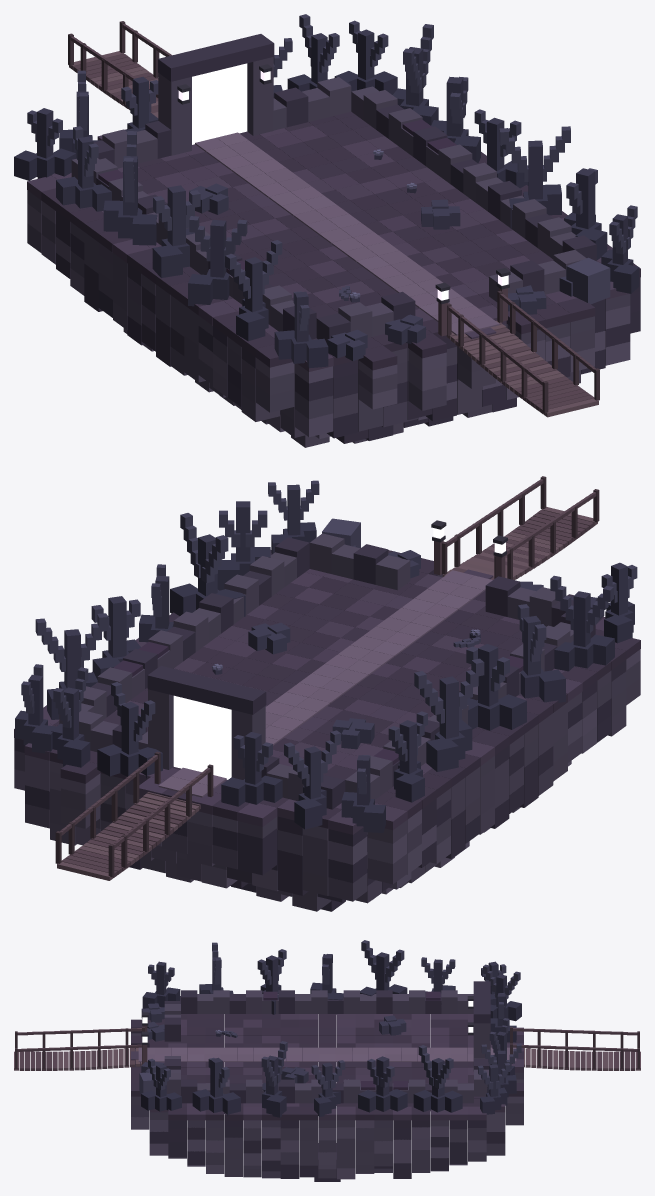
File: room_empty_polluted.glb
3 renders of one model, top to bottom at view 1: azimuth 30°, elevation 25°; view 2: azimuth 150°, elevation 25°; view 3: azimuth 270°, elevation 25°, orthographic. The views are drawn at different scales.
Visible parts, largest first — view 1: room_empty_blocks, tree4_(0, 0).001, tree0_(0, 0).002, tree5_(0, 0).001, tree2_(0, 0).001, tree2_(0, 0).002, tree0_(0, 0).003, tree4_(0, 0).002, tree0_(0, 0).001, tree5_(0, 0).002, tree3_(0, 0).001, tree1_(0, 0).003 (+12 smaller); view 2: room_empty_blocks, tree2_(0, 0).002, tree2_(0, 0).001, tree0_(0, 0).002, tree5_(0, 0).001, tree5_(0, 0).003, tree0_(0, 0).004, tree2_(0, 0).003, tree5_(0, 0).002, tree4_(0, 0).001, tree3_(0, 0).001, tree2_(0, 0).004 (+10 smaller); view 3: room_empty_blocks, tree5_(0, 0).002, tree3_(0, 0).002, tree3_(0, 0).001, tree5_(0, 0).001, tree2_(0, 0).002, tree1_(0, 0).001, tree1_(0, 0).002, tree1_(0, 0).003, tree0_(0, 0).001, tree2_(0, 0).003, tree4_(0, 0).001 (+9 smaller).
Boxes of the visible parts, left/top/right/bottom form: room_empty_blocks: left=27, top=21, right=640, bottom=447; tree4_(0, 0).001: left=188, top=216, right=247, bottom=306; tree0_(0, 0).002: left=152, top=185, right=200, bottom=277; tree5_(0, 0).001: left=499, top=126, right=570, bottom=228; tree2_(0, 0).001: left=225, top=240, right=282, bottom=341; tree2_(0, 0).002: left=103, top=131, right=157, bottom=245; tree0_(0, 0).003: left=14, top=108, right=76, bottom=180; tree4_(0, 0).002: left=56, top=126, right=111, bottom=211; tree0_(0, 0).001: left=274, top=291, right=328, bottom=368; tree5_(0, 0).002: left=393, top=24, right=438, bottom=125; tree3_(0, 0).001: left=564, top=168, right=607, bottom=260; tree1_(0, 0).003: left=334, top=20, right=397, bottom=94; room_empty_blocks: left=14, top=476, right=640, bottom=911; tree2_(0, 0).002: left=414, top=658, right=484, bottom=771; tree2_(0, 0).001: left=550, top=575, right=614, bottom=671; tree0_(0, 0).002: left=466, top=644, right=526, bottom=730; tree5_(0, 0).001: left=170, top=513, right=245, bottom=616; tree5_(0, 0).003: left=97, top=682, right=162, bottom=778; tree0_(0, 0).004: left=221, top=732, right=282, bottom=806; tree2_(0, 0).003: left=284, top=730, right=340, bottom=829; tree5_(0, 0).002: left=35, top=613, right=107, bottom=719; tree4_(0, 0).001: left=517, top=604, right=565, bottom=702; tree3_(0, 0).001: left=217, top=501, right=270, bottom=590; tree2_(0, 0).004: left=51, top=667, right=90, bottom=767; room_empty_blocks: left=14, top=981, right=640, bottom=1181; tree5_(0, 0).002: left=413, top=1045, right=462, bottom=1112; tree3_(0, 0).002: left=358, top=1056, right=407, bottom=1112; tree3_(0, 0).001: left=192, top=1057, right=240, bottom=1116; tree5_(0, 0).001: left=261, top=1041, right=287, bottom=1117; tree2_(0, 0).002: left=360, top=940, right=407, bottom=995; tree1_(0, 0).001: left=141, top=1058, right=181, bottom=1111; tree1_(0, 0).002: left=311, top=1060, right=345, bottom=1116; tree1_(0, 0).003: left=478, top=1063, right=510, bottom=1114; tree0_(0, 0).001: left=142, top=961, right=180, bottom=1008; tree2_(0, 0).003: left=483, top=964, right=521, bottom=1021; tree4_(0, 0).001: left=257, top=949, right=286, bottom=1014.
Bounding box in the file's own units: 17.93 × 12.1 × 38.5.
